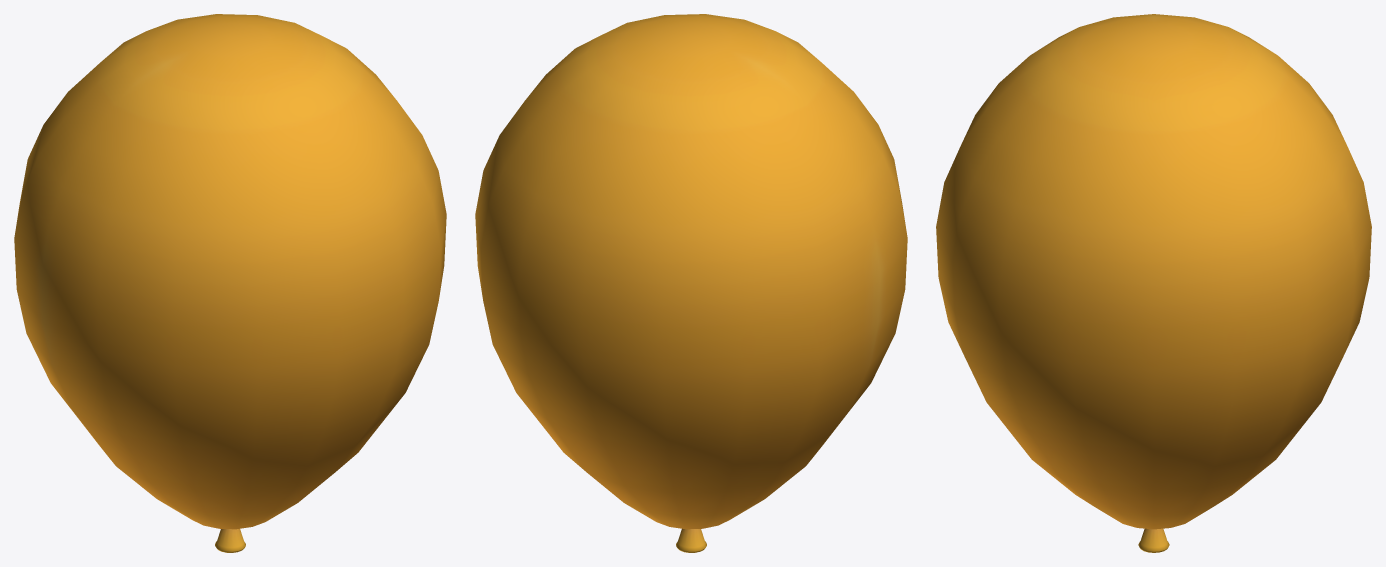
File: PartyBalloons03_3.FBX
3 renders of one model, left to right at view 1: azimuth 30°, elevation 25°; view 2: azimuth 150°, elevation 25°; view 3: azimuth 270°, elevation 25°, orthographic.
Visible parts, largest first — view 1: PartyBalloons03_3; view 2: PartyBalloons03_3; view 3: PartyBalloons03_3.
Part boxes in pixels (x1,y1,x2,y2): PartyBalloons03_3: [14, 14, 446, 552]; PartyBalloons03_3: [475, 14, 907, 552]; PartyBalloons03_3: [936, 14, 1371, 552].
Size of what is drawn, in the model's own units: 0.3546 by 0.4578 by 0.3546.
